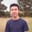Face: (10, 5, 20, 18)
